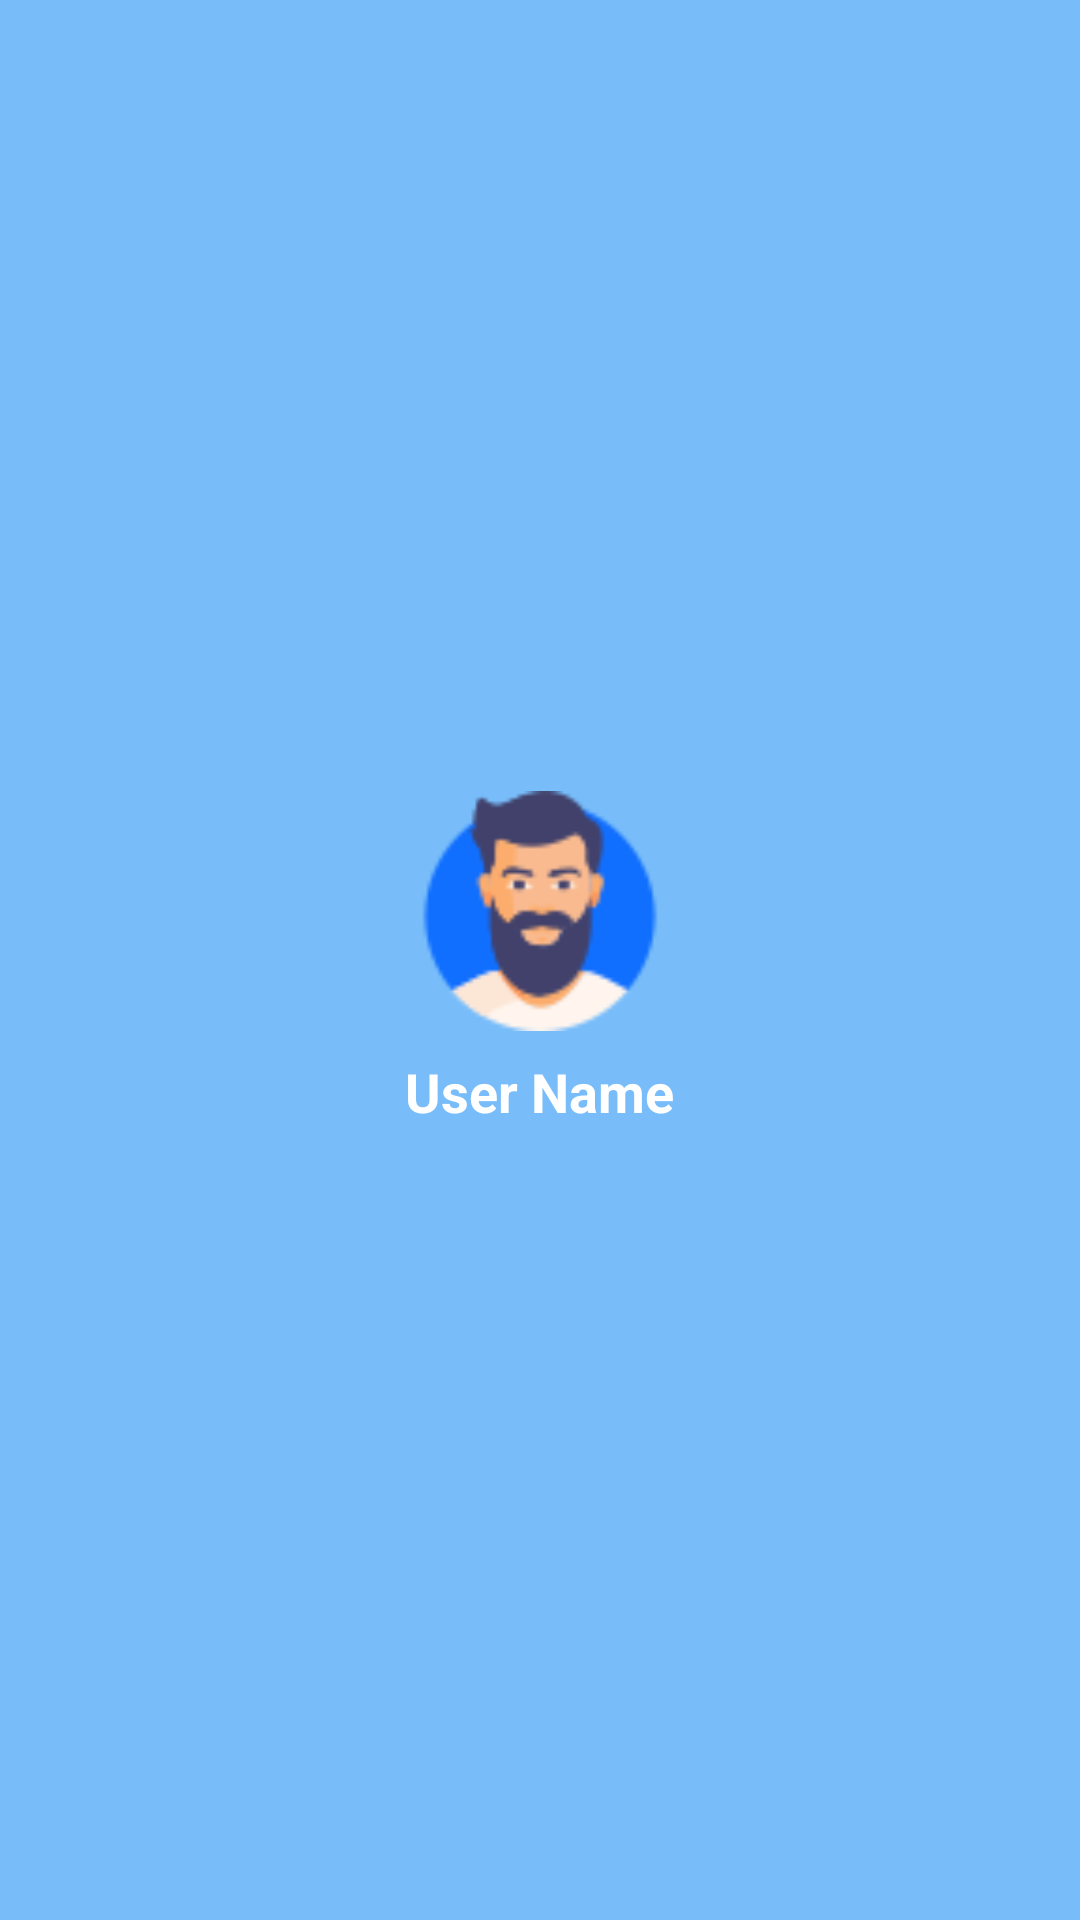

Icon click points for this 1080 x 1920 phone screenshot, format (x,y):
Profile Picture: (540,911)
